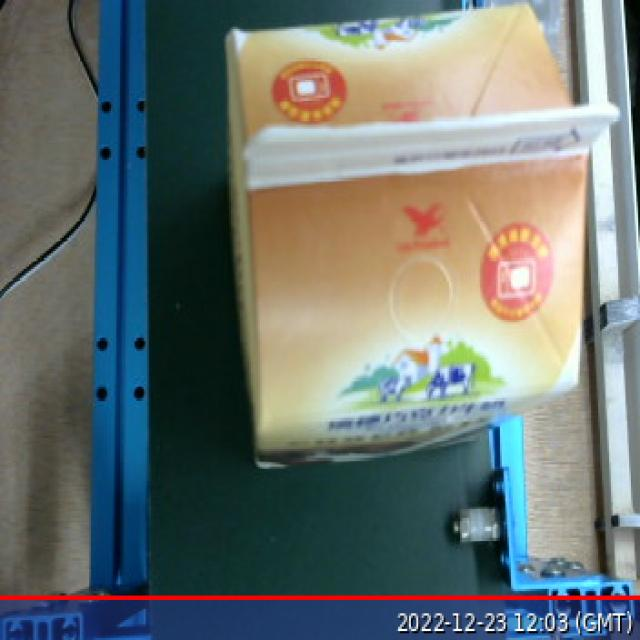non_white_jug: (214, 0, 628, 448)
